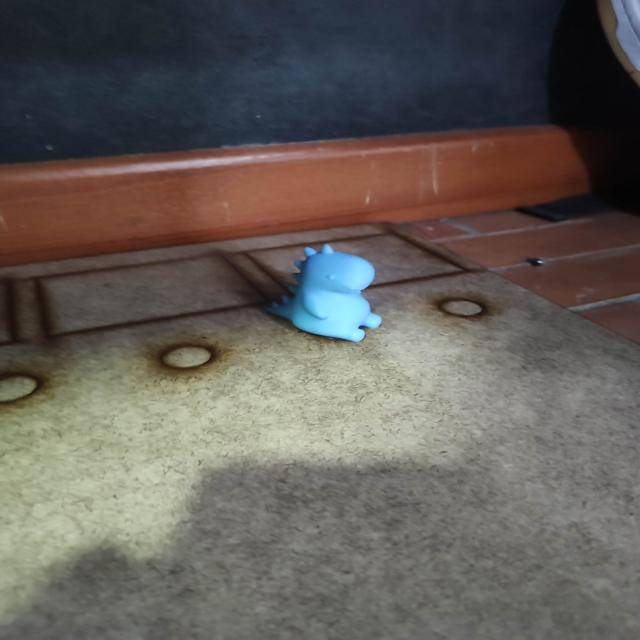DINO: (260, 232, 393, 352)
